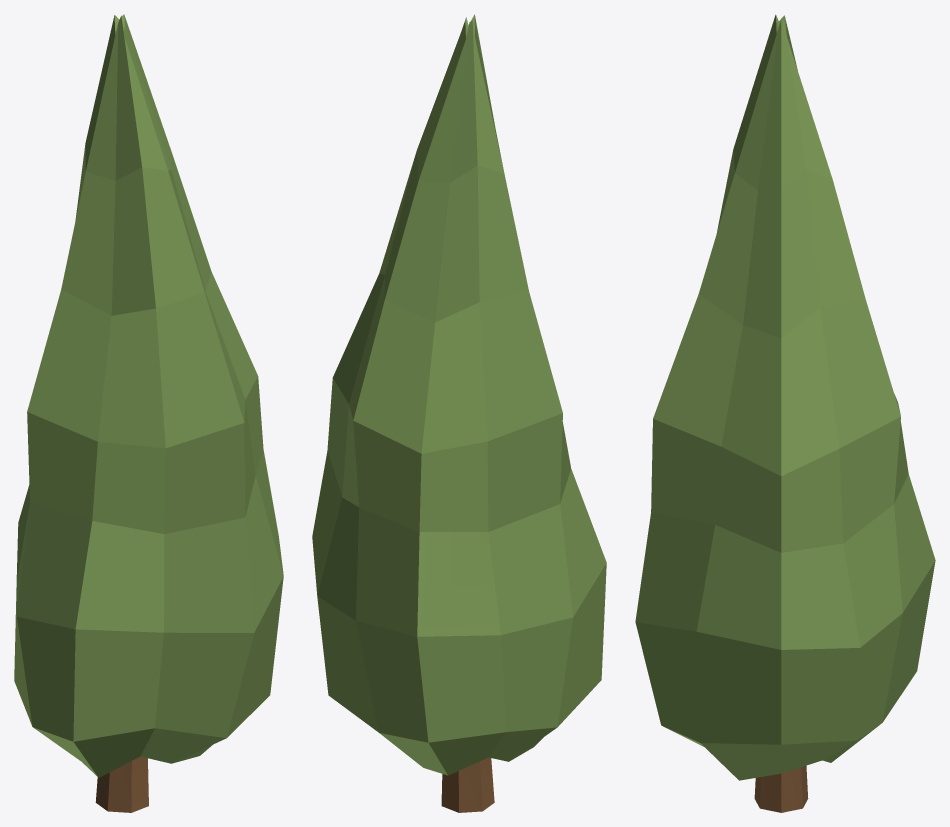
Rendered from cypress-sculpt-0.glb.
The picture shows the model from 3 angles, left to right: view 1: azimuth 30°, elevation 25°; view 2: azimuth 150°, elevation 25°; view 3: azimuth 270°, elevation 25°; orthographic projection.
Parts seen in each view (by area): view 1: Cypress, Branch; view 2: Cypress, Branch; view 3: Cypress, Branch.
Boxes of the visible parts, x1,y1,x2,y2 form: Cypress: [14, 14, 283, 777]; Branch: [95, 756, 148, 812]; Cypress: [312, 14, 606, 775]; Branch: [441, 757, 494, 812]; Cypress: [635, 14, 935, 780]; Branch: [754, 765, 808, 812].
Bounding box in the file's own units: 0.58 × 1.67 × 0.5791.
